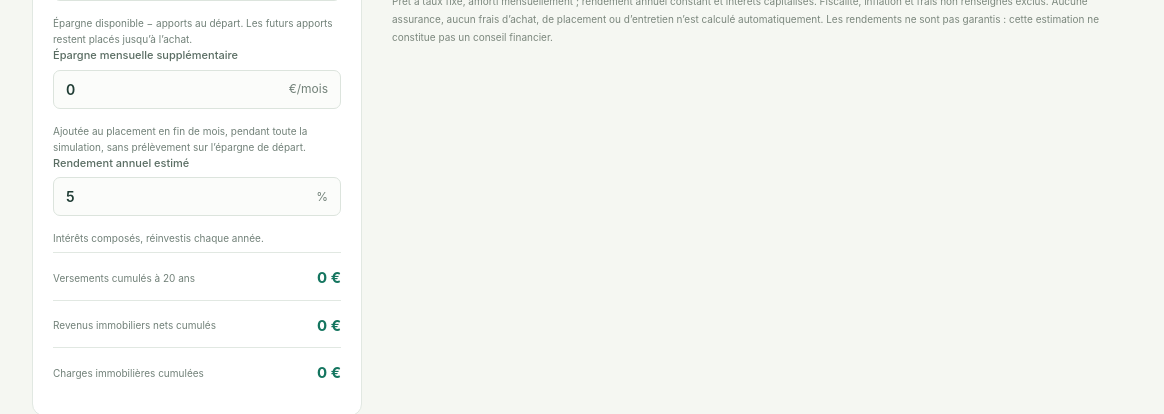
Scenario: App › deducts charges, displays their cumulative cost and resets the input
(page scrolled)
Replace the text in the number field with id "investment-rate" with "0" at (185, 197), box [54,178,316,215]
(page scrolled)
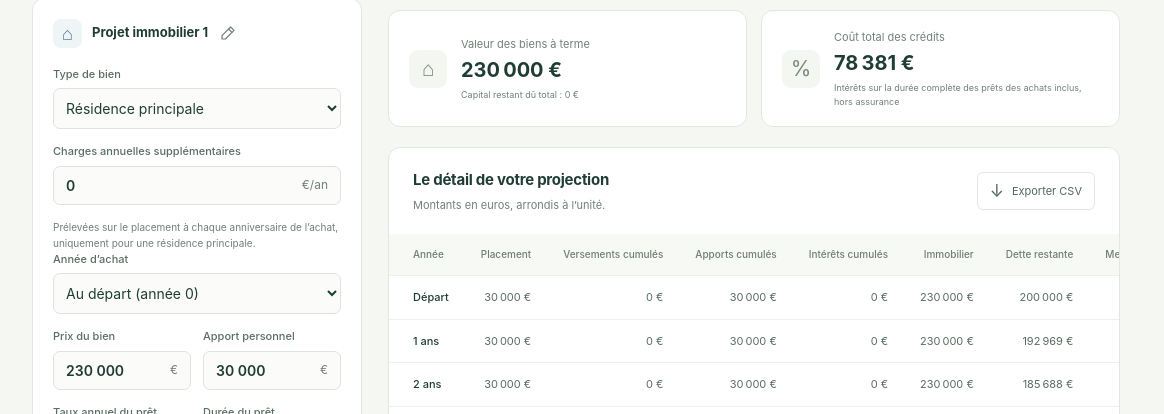
Replace the text in the field with id "annual-charges-1" with "1000" at (178, 185), box [54,167,302,204]
(page scrolled)
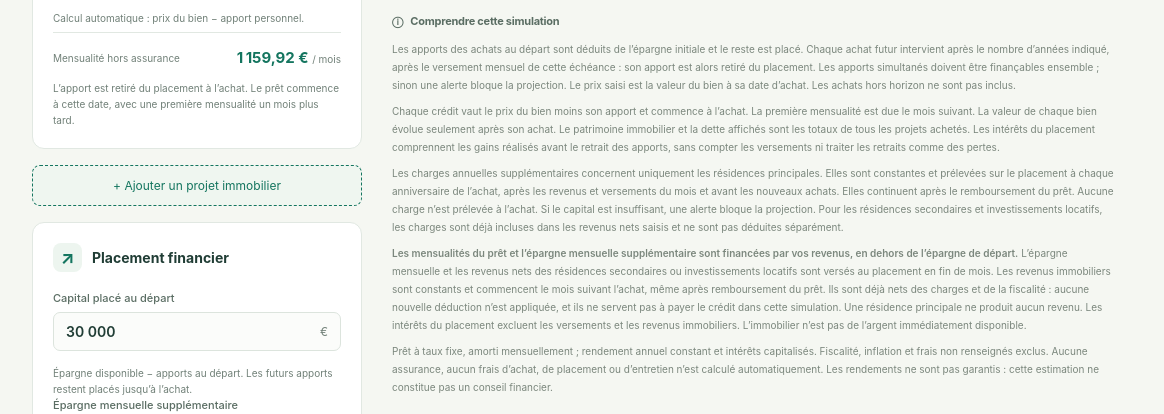
Click the button with class "add-project-button" at (197, 185), box [32,165,362,206]
(page scrolled)
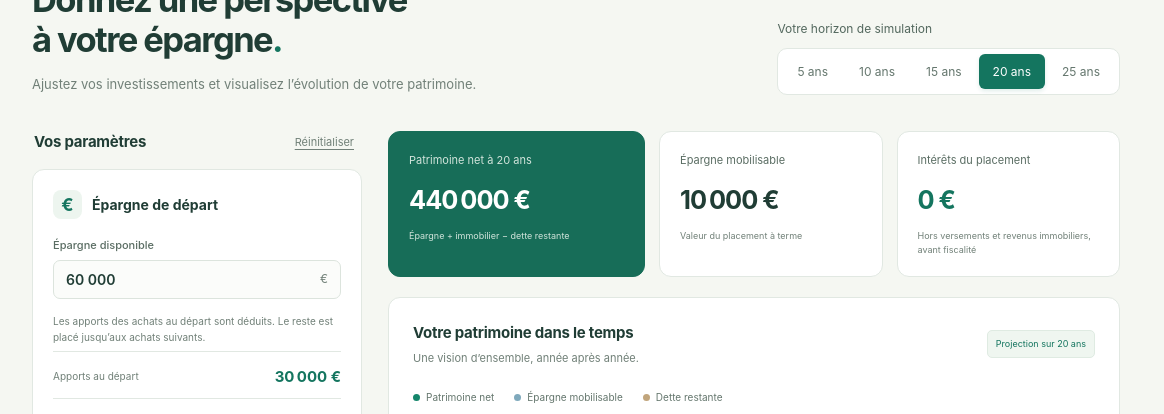
Click the button "Réinitialiser" at (324, 142), box [289,134,360,150]
(page scrolled)
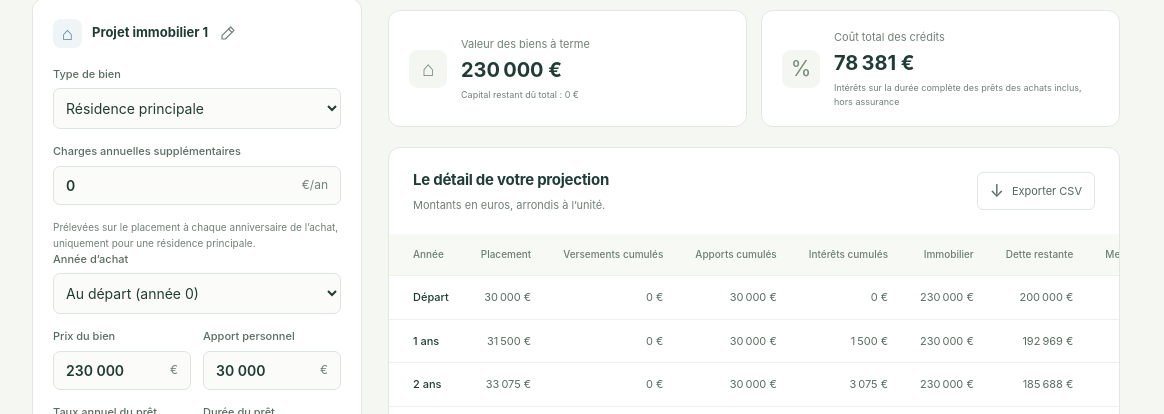
Expected: the field with id "annual-charges-1" holds "0", [54,167,302,204]
